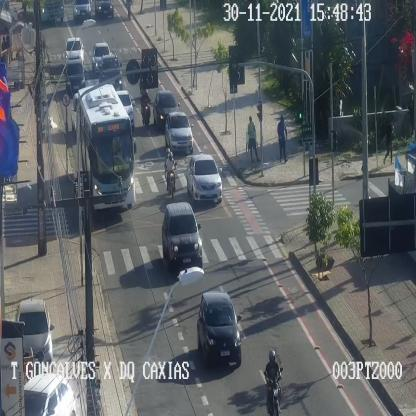bus: (77, 84, 136, 209), (38, 0, 69, 25)
car: (196, 292, 240, 364), (161, 202, 202, 267), (16, 299, 52, 371), (23, 374, 76, 416), (186, 154, 221, 202), (165, 111, 193, 152), (153, 90, 179, 127), (99, 54, 122, 90), (115, 90, 134, 128), (64, 37, 84, 67), (66, 61, 84, 92), (92, 42, 110, 72), (73, 0, 96, 22), (95, 0, 116, 23)
motorbike: (265, 349, 282, 415), (164, 148, 177, 198), (140, 89, 151, 127), (139, 62, 145, 93)
person: (277, 115, 287, 162), (247, 116, 256, 161), (383, 126, 393, 163)
